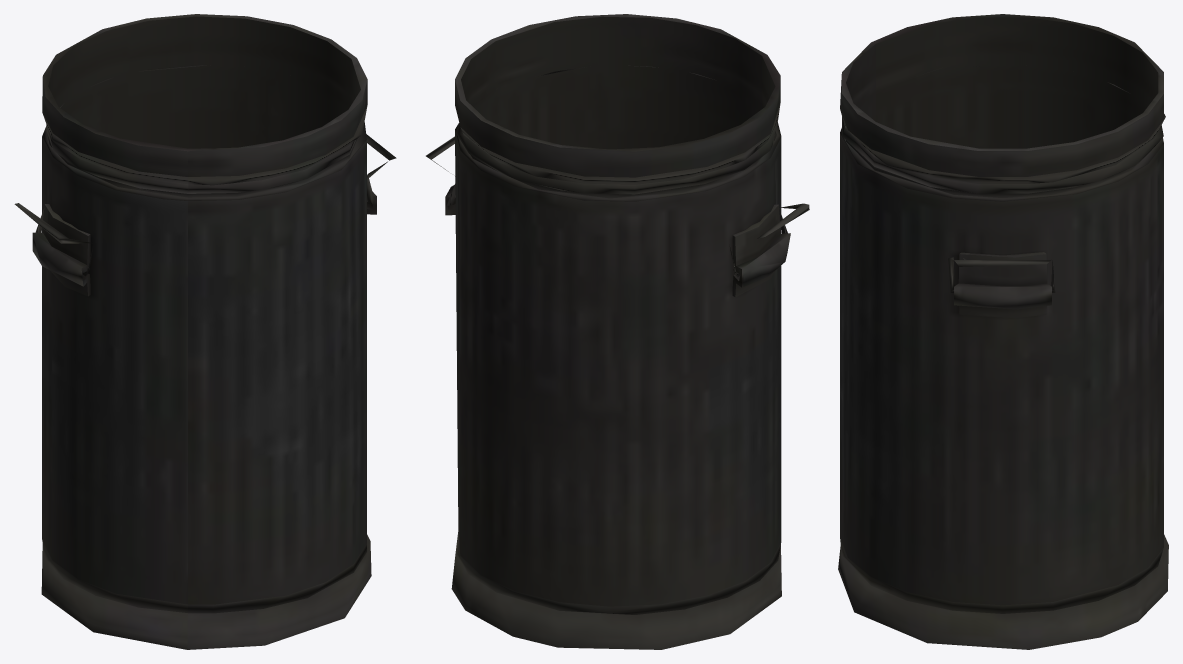
The model's file is trash_can.glb.
The picture shows the model from 3 angles, left to right: view 1: azimuth 30°, elevation 25°; view 2: azimuth 150°, elevation 25°; view 3: azimuth 270°, elevation 25°; orthographic projection.
Visible parts, largest first — view 1: trash_can; view 2: trash_can; view 3: trash_can.
Part boxes in pixels (left/top/right/bottom): trash_can: left=14, top=14, right=396, bottom=649; trash_can: left=426, top=14, right=809, bottom=649; trash_can: left=838, top=14, right=1168, bottom=649.
Bounding box in the file's own units: 0.6465 × 0.9062 × 0.5463.
Materials: 1 (1 with a texture image).
